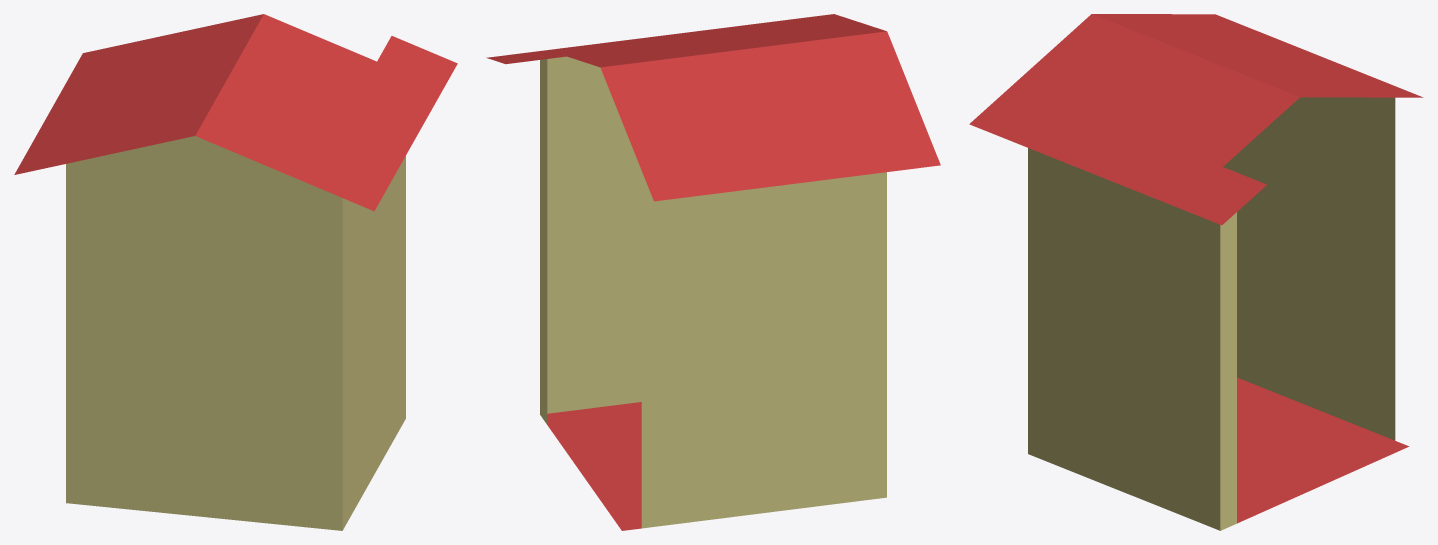
3 renders of one model, left to right at view 1: azimuth 30°, elevation 25°; view 2: azimuth 150°, elevation 25°; view 3: azimuth 270°, elevation 25°, orthographic. The views are drawn at different scales.
Bounding box in the file's own units: 9.01 × 8.2 × 7.68.
